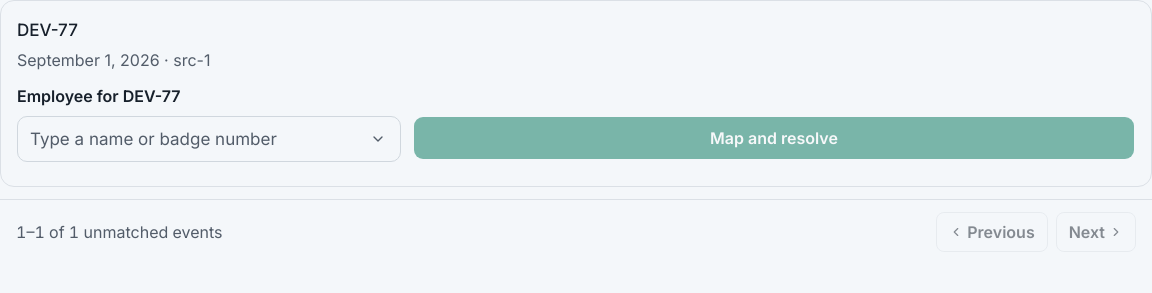
it: UnmatchedAttendanceQueue › shows a failure next to the row
Type "Ana" into the dropdown labelled "Employee for DEV-77" at (209, 139), box x1=18 y1=117 x2=400 y2=161
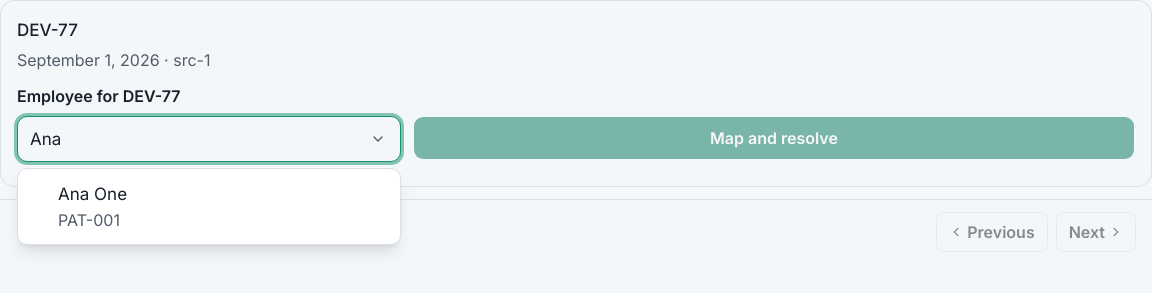
Click the option "Ana One PAT-001" at (93, 194), box x1=58 y1=184 x2=127 y2=230
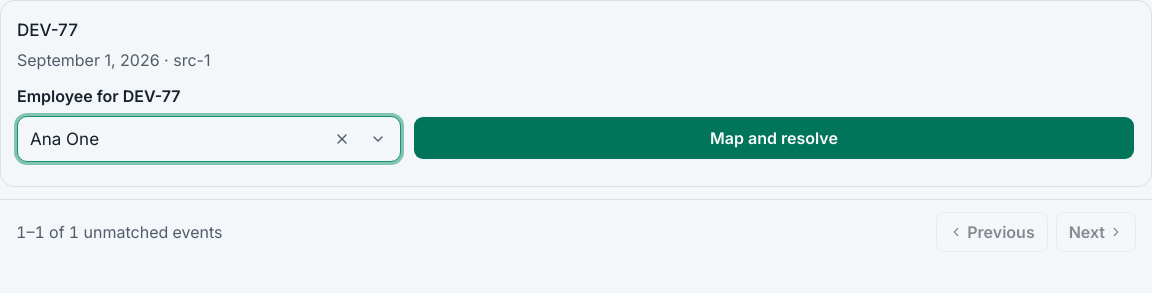
Click the button "Map and resolve" at (774, 138), box x1=413 y1=116 x2=1135 y2=160
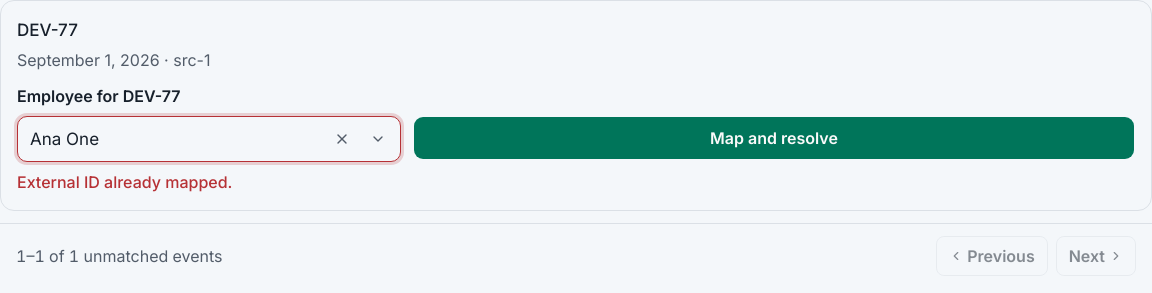
Expected: the text "External ID already mapped." is shown, x1=17 y1=172 x2=232 y2=192
